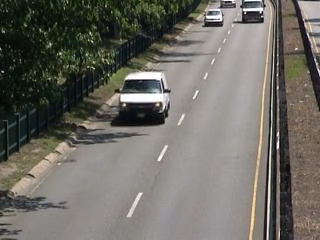car: (202, 8, 225, 28), (218, 1, 238, 10)
truck: (115, 71, 175, 124), (240, 1, 269, 22)
